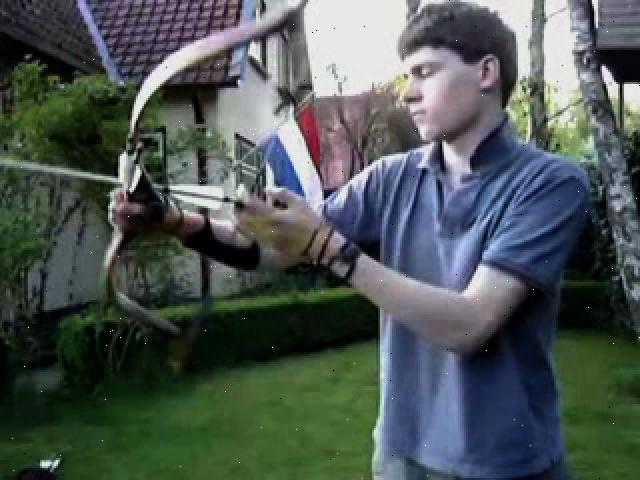P: (113, 6, 593, 476)
